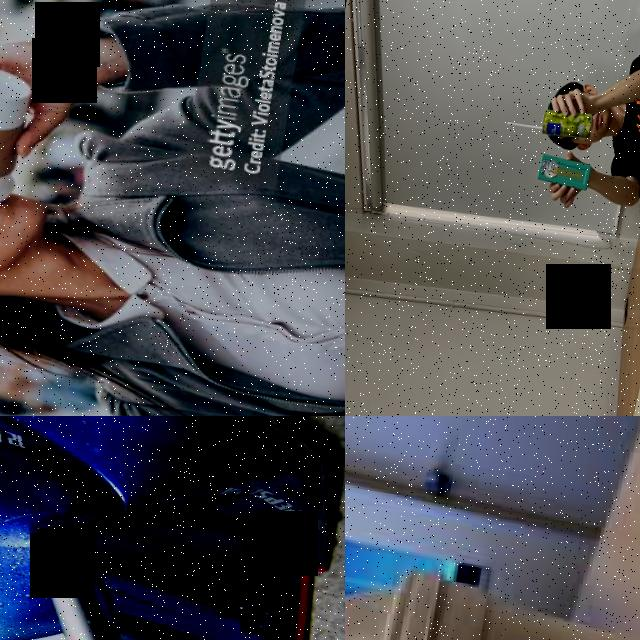can: (538, 104, 598, 142)
cup: (345, 539, 640, 640), (0, 50, 43, 216)
